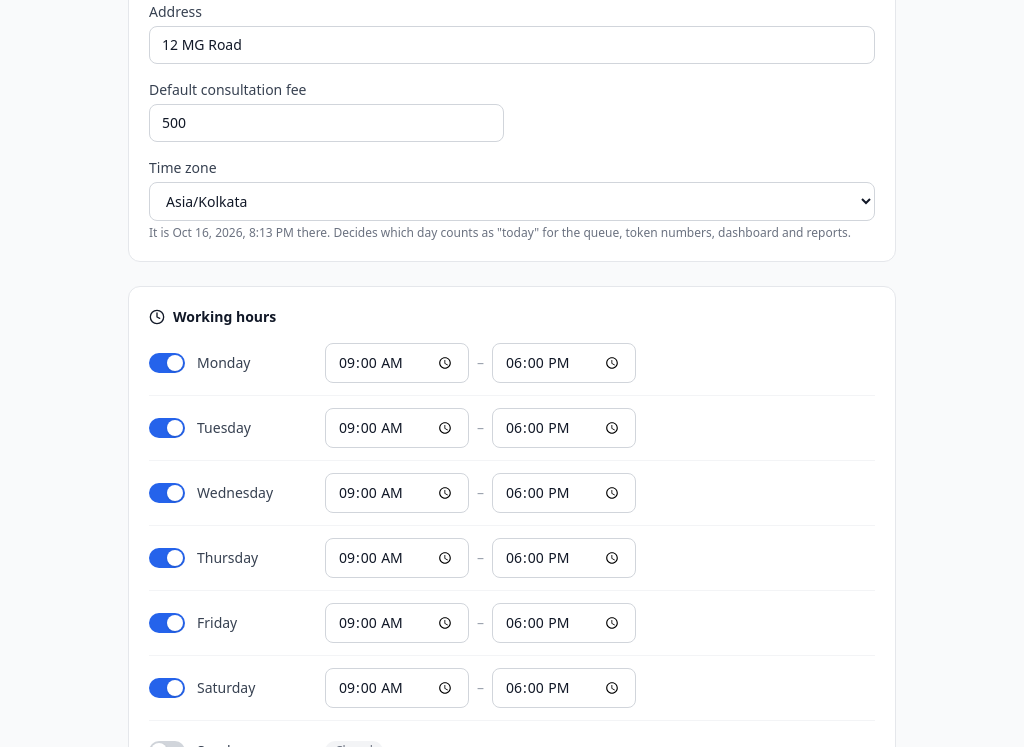
it: Clinic Settings - working hours › rejects a closing time before the opening time
This screenshot has width=1024, height=747.
(page scrolled)
Replace the text in the time field named "Monday closing time" with "08:00" at {"x": 564, "y": 363}, box [492,343,636,383]
(page scrolled)
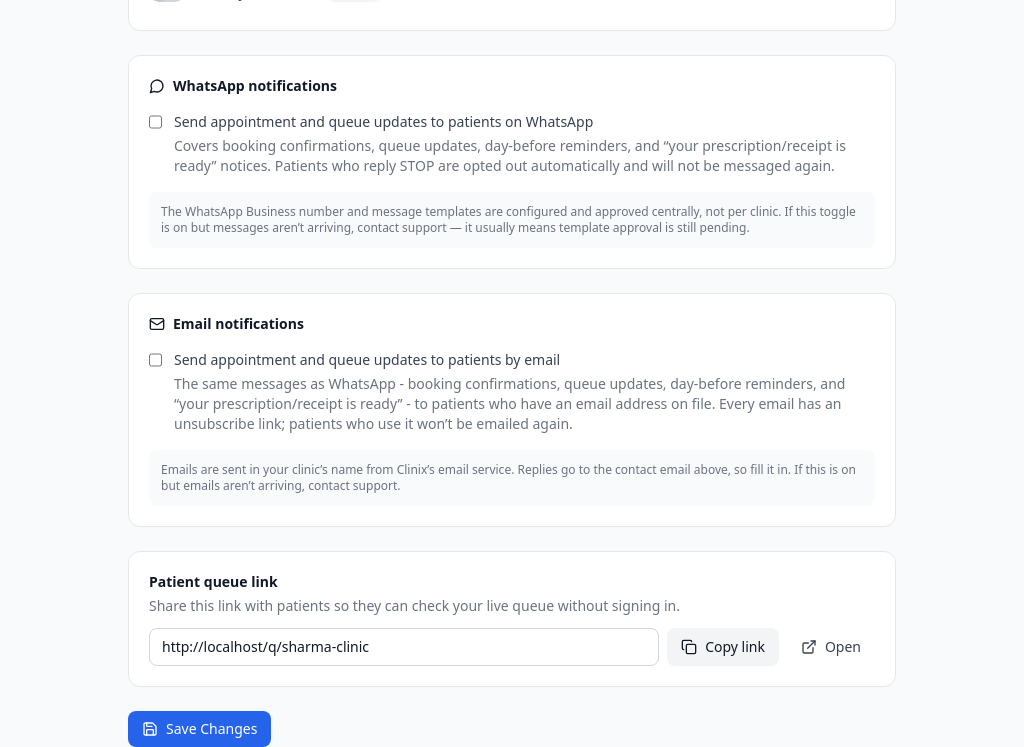
Click the button "Save Changes" at {"x": 200, "y": 729}, box [128,711,271,746]
(page scrolled)
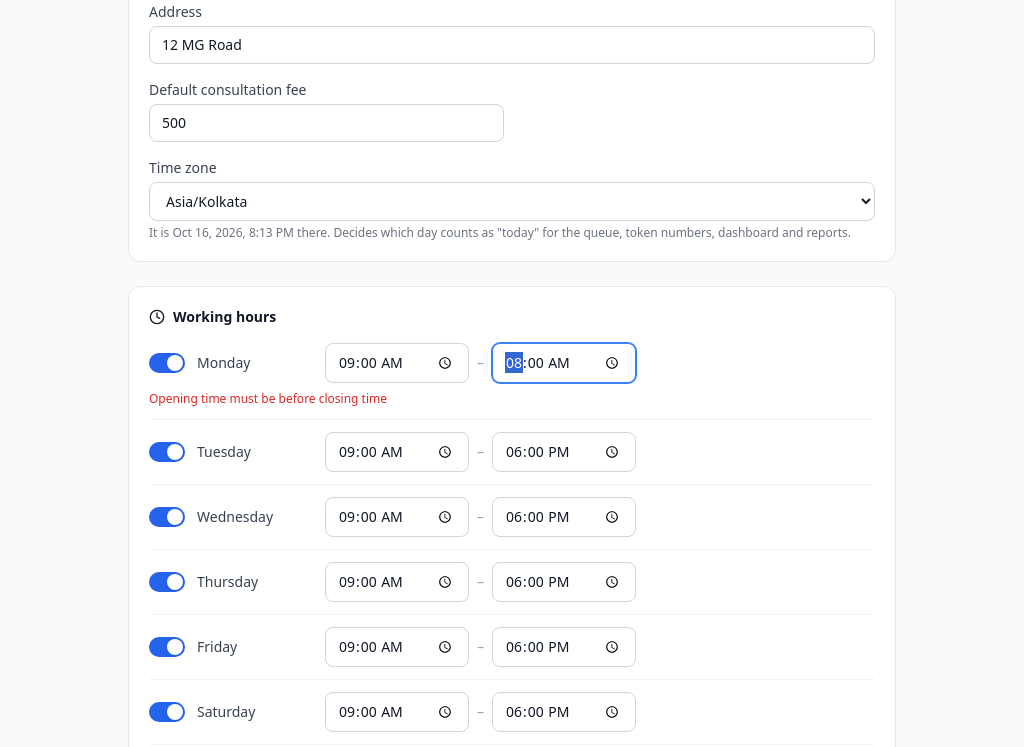
Expected: the text "Opening time must be before closing time" is shown, [149,390,387,407]
